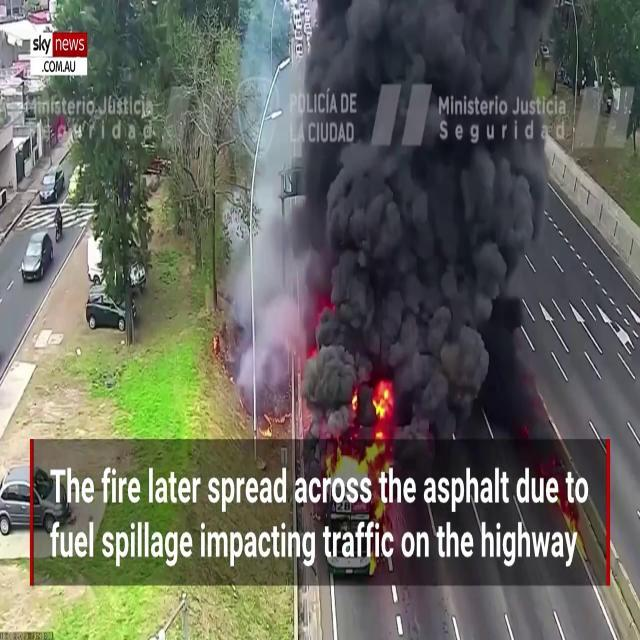Fire: (368, 372, 397, 430)
Smoke: (237, 0, 556, 395)
